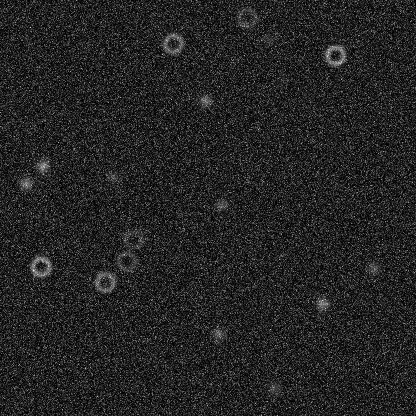Ring: (92, 269, 116, 293), (28, 254, 52, 278), (121, 226, 145, 250), (160, 31, 184, 55), (114, 249, 138, 273), (235, 5, 259, 29), (323, 43, 347, 67)
Spot: (273, 72, 289, 88), (265, 379, 281, 395), (104, 168, 120, 184), (17, 175, 33, 191), (365, 260, 381, 276), (314, 295, 330, 311), (259, 31, 275, 47), (209, 325, 225, 341), (34, 157, 50, 173), (197, 92, 213, 108), (213, 196, 229, 212)
